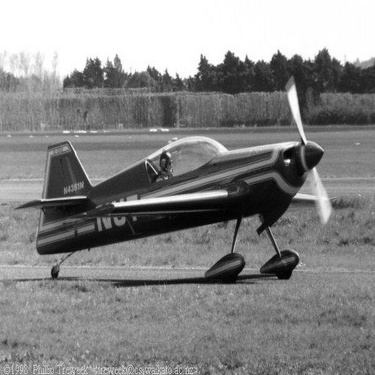airplane: (1, 70, 340, 290)
